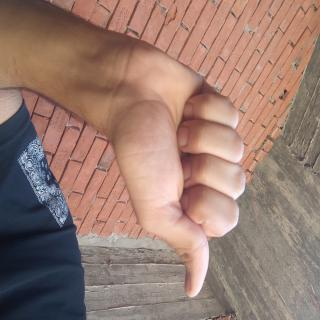DAD: (16, 92, 230, 294)
